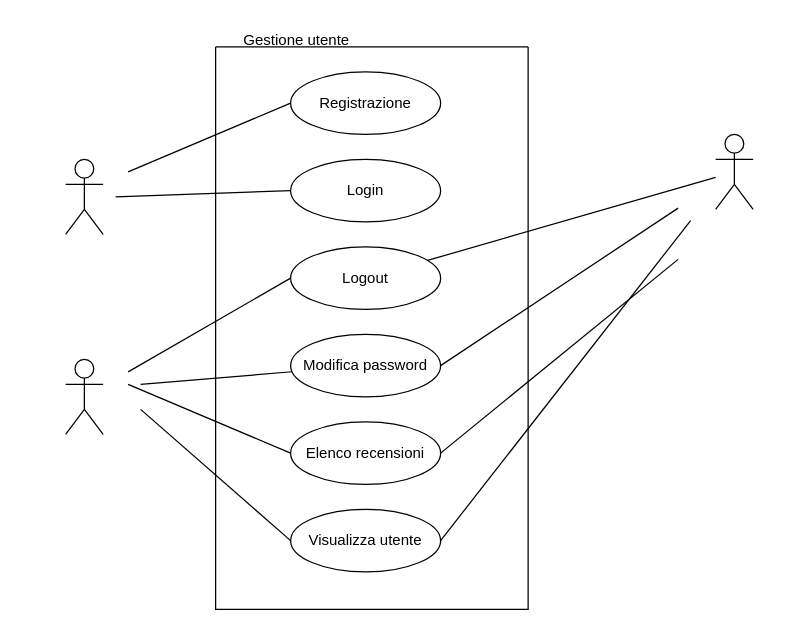
Some shapes in this 806 by 631 pixel diagram are drawn without their labels. Here are the shapes that lost their labels. From the top down, the centre of each, then its label:
the point at 733,171: Amministratore
the point at 83,196: Utente non loggato
the point at 83,396: Utente loggato
